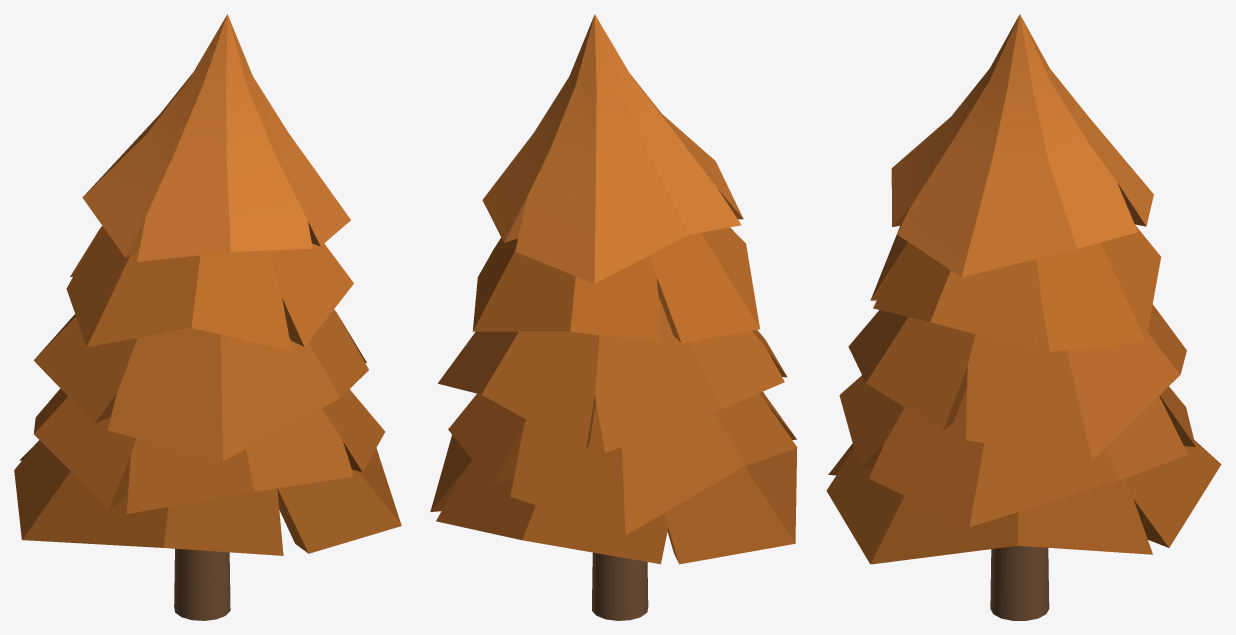
The model's file is Spruce_Orange_Thick_1.fbx.
3 views of the same model, side by side, from view 1: azimuth 30°, elevation 25°; view 2: azimuth 150°, elevation 25°; view 3: azimuth 270°, elevation 25° (orthographic). The views are drawn at different scales.
Visible parts, largest first — view 1: Cylinder.436, Cylinder.437, Cylinder.438, Cylinder.440, Cylinder.439, Cylinder.441; view 2: Cylinder.436, Cylinder.437, Cylinder.439, Cylinder.438, Cylinder.440, Cylinder.441; view 3: Cylinder.436, Cylinder.437, Cylinder.439, Cylinder.438, Cylinder.440, Cylinder.441.
Boxes of the visible parts, x1,y1,x2,y2 form: Cylinder.436: [82, 14, 350, 261]; Cylinder.437: [34, 309, 368, 461]; Cylinder.438: [66, 226, 353, 350]; Cylinder.440: [14, 440, 401, 555]; Cylinder.439: [34, 388, 385, 513]; Cylinder.441: [174, 548, 230, 620]; Cylinder.436: [482, 14, 743, 283]; Cylinder.437: [438, 294, 787, 452]; Cylinder.439: [448, 391, 797, 535]; Cylinder.438: [472, 227, 759, 343]; Cylinder.440: [430, 435, 796, 564]; Cylinder.441: [592, 552, 648, 620]; Cylinder.436: [891, 14, 1153, 277]; Cylinder.437: [848, 304, 1186, 460]; Cylinder.439: [839, 375, 1195, 527]; Cylinder.438: [870, 225, 1160, 351]; Cylinder.440: [826, 440, 1221, 564]; Cylinder.441: [990, 545, 1049, 620].
Bounding box in the file's own units: 347 × 567 × 334.
